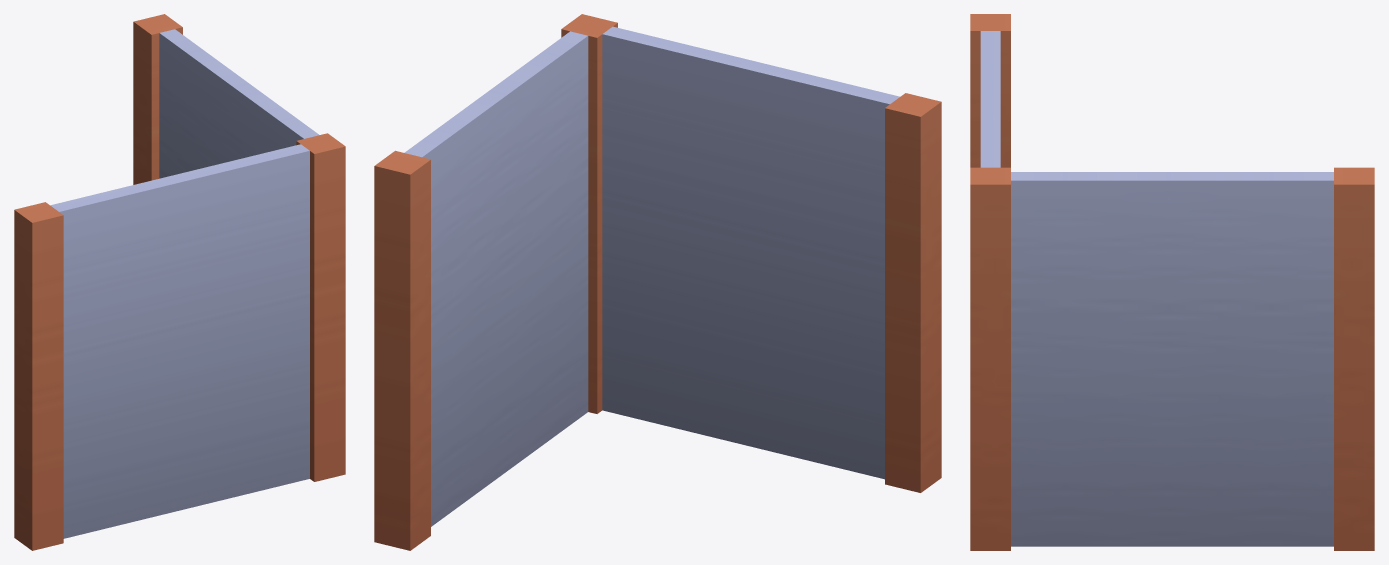
File: wallCorner.fbx
3 views of the same model, side by side, from view 1: azimuth 30°, elevation 25°; view 2: azimuth 150°, elevation 25°; view 3: azimuth 270°, elevation 25° (orthographic). The views are drawn at different scales.
Visible parts, largest first — view 1: wallCorner; view 2: wallCorner; view 3: wallCorner.
Boxes of the visible parts, x1,y1,x2,y2 form: wallCorner: (14, 14, 345, 550); wallCorner: (374, 14, 941, 550); wallCorner: (970, 14, 1374, 550).
Bounding box in the file's own units: 1 × 1 × 1.
